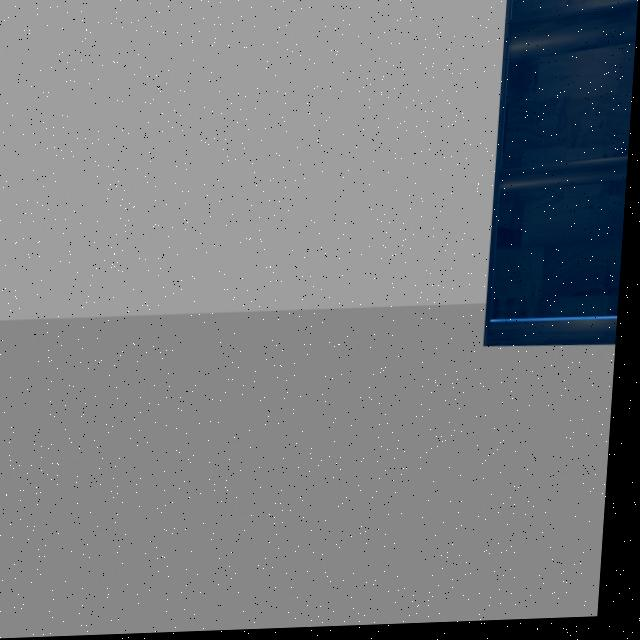shelf: (467, 0, 640, 385)
